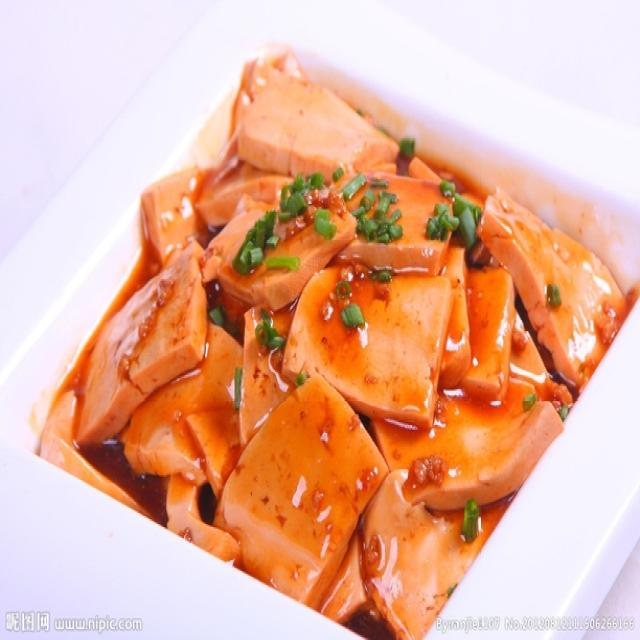豆腐料理: (10, 9, 628, 630)
